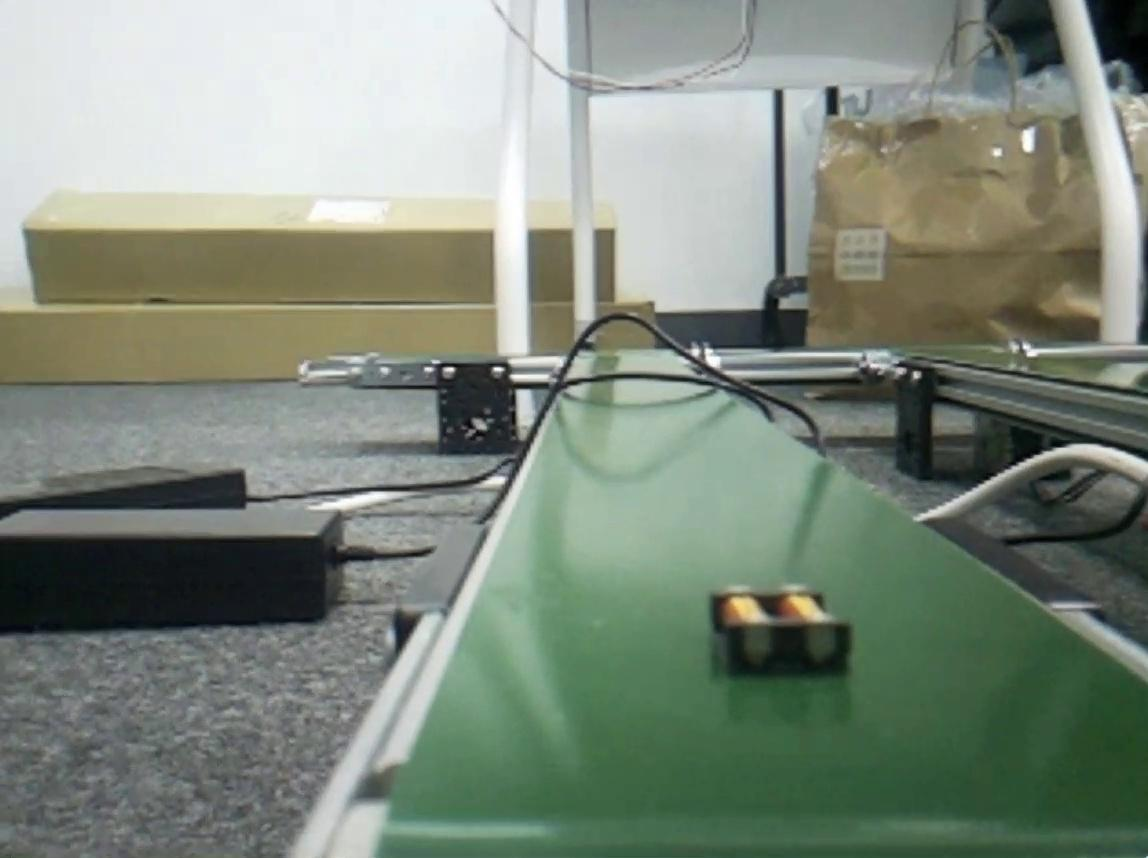inductor: (718, 590, 851, 675)
